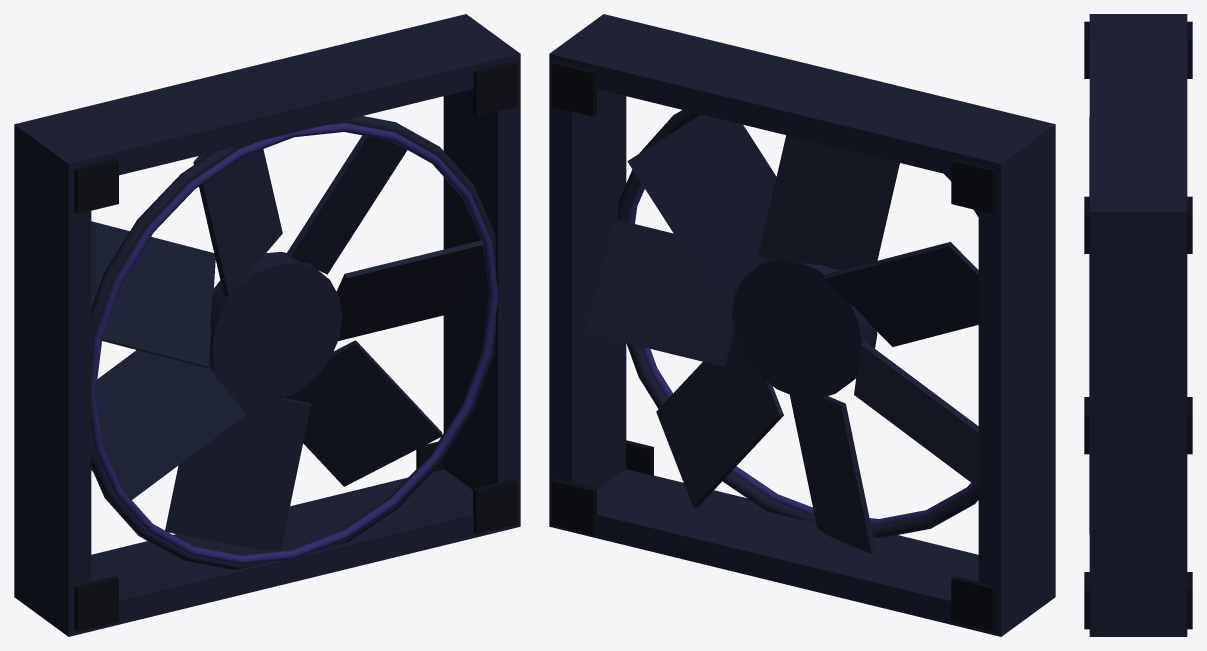
The model's file is fan-rgb-120.glb.
3 views of the same model, side by side, from view 1: azimuth 30°, elevation 25°; view 2: azimuth 150°, elevation 25°; view 3: azimuth 270°, elevation 25° (orthographic). The views are drawn at different scales.
Visible parts, largest first — view 1: fan_frame, blades_1, purple_ring, corner_pads, fan_inner_ring; view 2: fan_frame, blades_1, corner_pads, fan_inner_ring, purple_ring; view 3: fan_frame, corner_pads, purple_ring.
Part boxes in pixels (x1,y1,x2,y2): fan_frame: (14, 14, 520, 636); blades_1: (91, 135, 483, 551); purple_ring: (91, 123, 497, 564); corner_pads: (74, 61, 517, 631); fan_inner_ring: (91, 116, 495, 569); fan_frame: (549, 14, 1055, 636); blades_1: (584, 114, 978, 554); corner_pads: (552, 61, 995, 631); fan_inner_ring: (617, 110, 978, 537); purple_ring: (628, 123, 973, 525); fan_frame: (1089, 14, 1187, 636); corner_pads: (1084, 21, 1192, 629); purple_ring: (1089, 117, 1089, 533).
Bounding box in the file's own units: 120 × 120 × 27.8.
